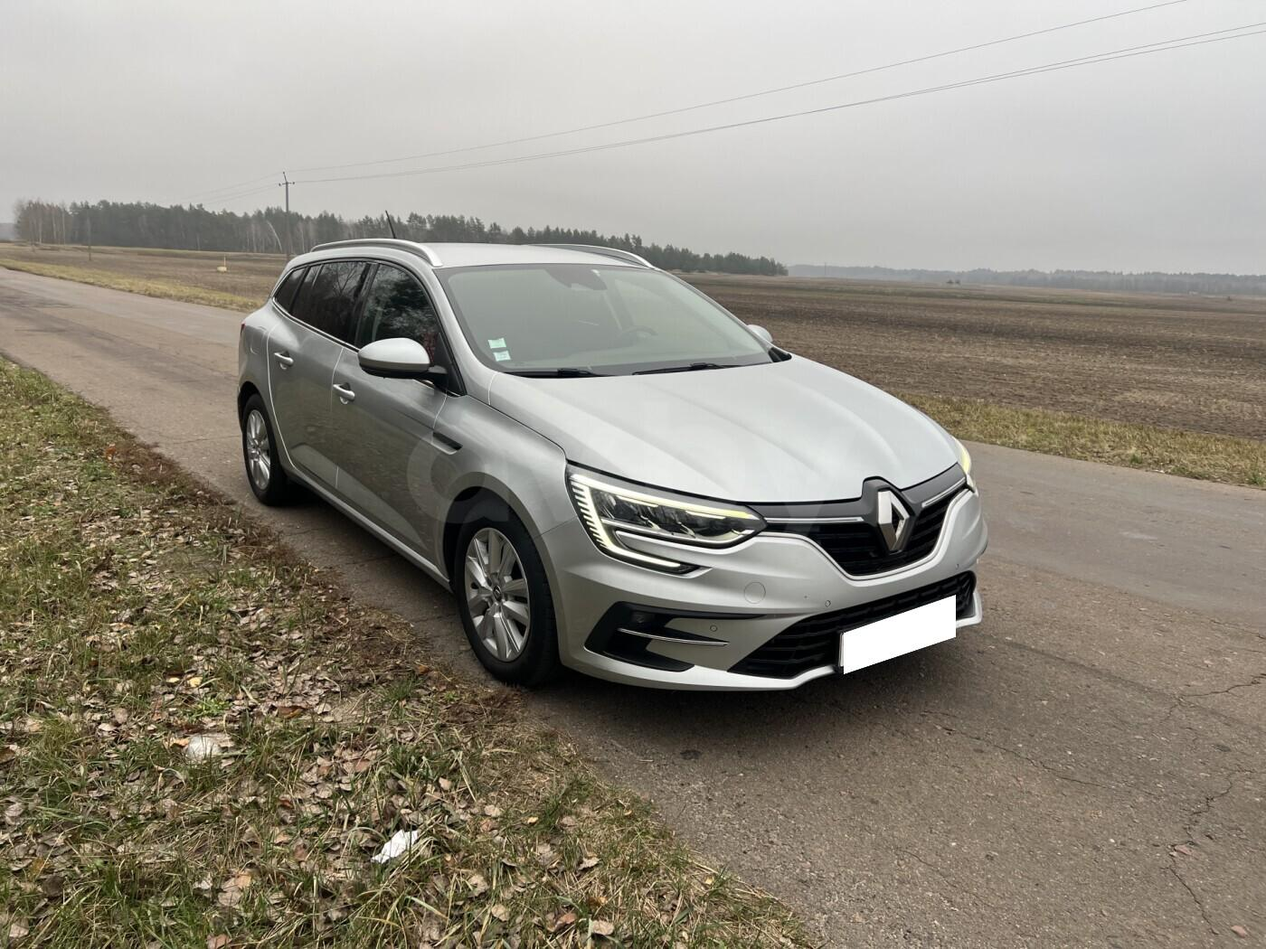Megane_2020: (235, 238, 997, 728)
